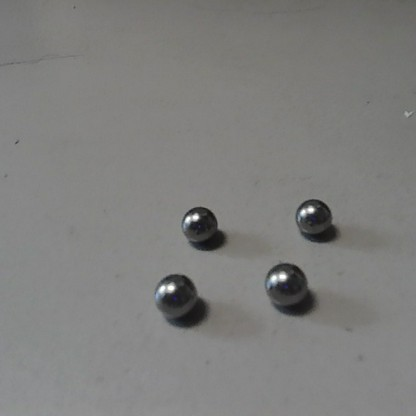ironball: (154, 273, 196, 321), (264, 261, 305, 307), (296, 197, 332, 236), (180, 206, 218, 241)
